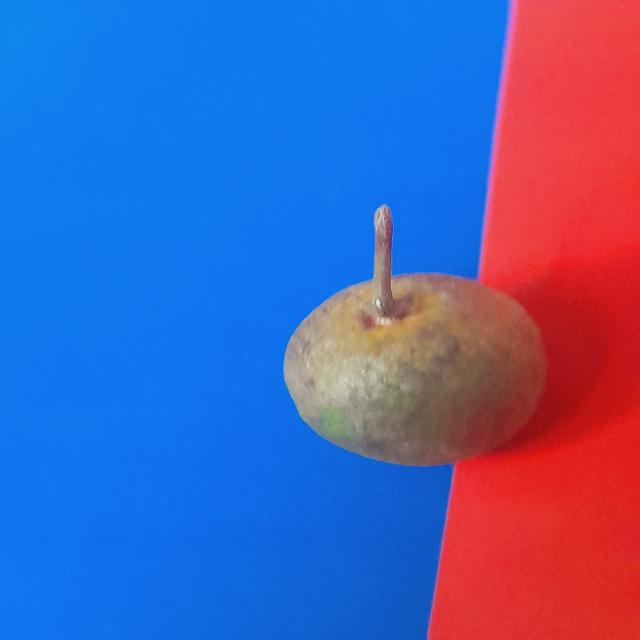thrips: (277, 274, 559, 467)
